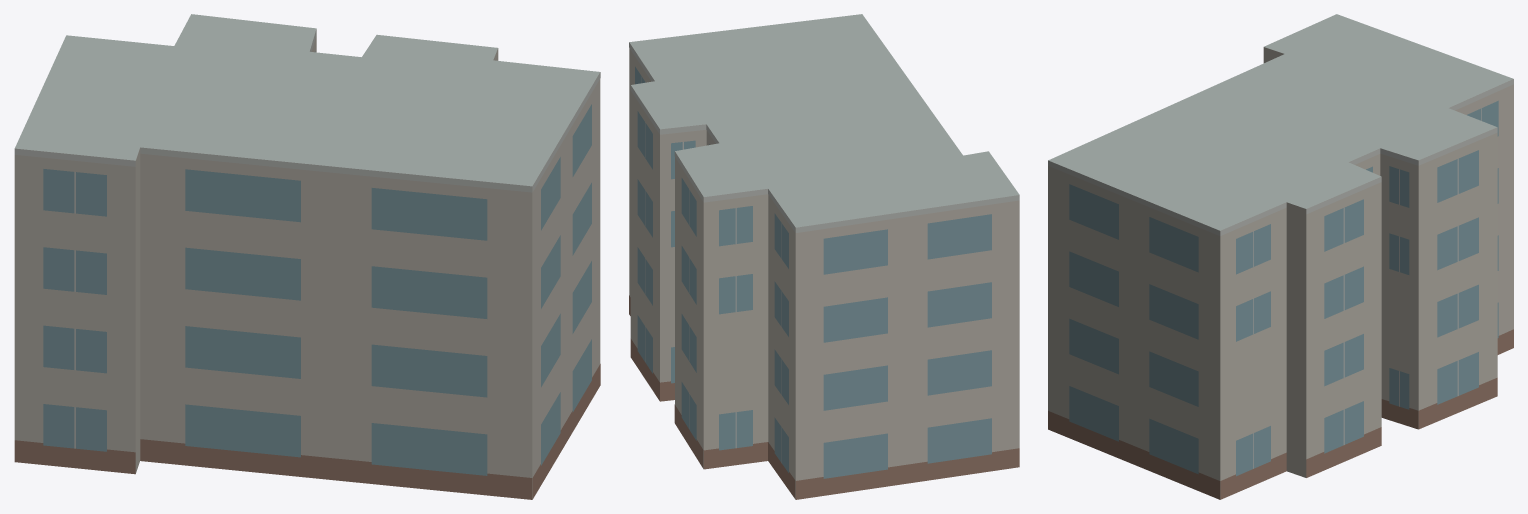
The model's file is survey-upis-32501417.glb.
3 views of the same model, side by side, from view 1: azimuth 30°, elevation 25°; view 2: azimuth 150°, elevation 25°; view 3: azimuth 270°, elevation 25° (orthographic). The views are drawn at different scales.
Parts seen in each view (by area): view 1: survey-upis-32501417.tmp; view 2: survey-upis-32501417.tmp; view 3: survey-upis-32501417.tmp.
Part boxes in pixels (x1,y1,x2,y2): survey-upis-32501417.tmp: (14, 14, 600, 499); survey-upis-32501417.tmp: (629, 14, 1019, 499); survey-upis-32501417.tmp: (1048, 14, 1513, 499).
Size of the model in its own units: 21.09 by 12.2 by 19.15.
